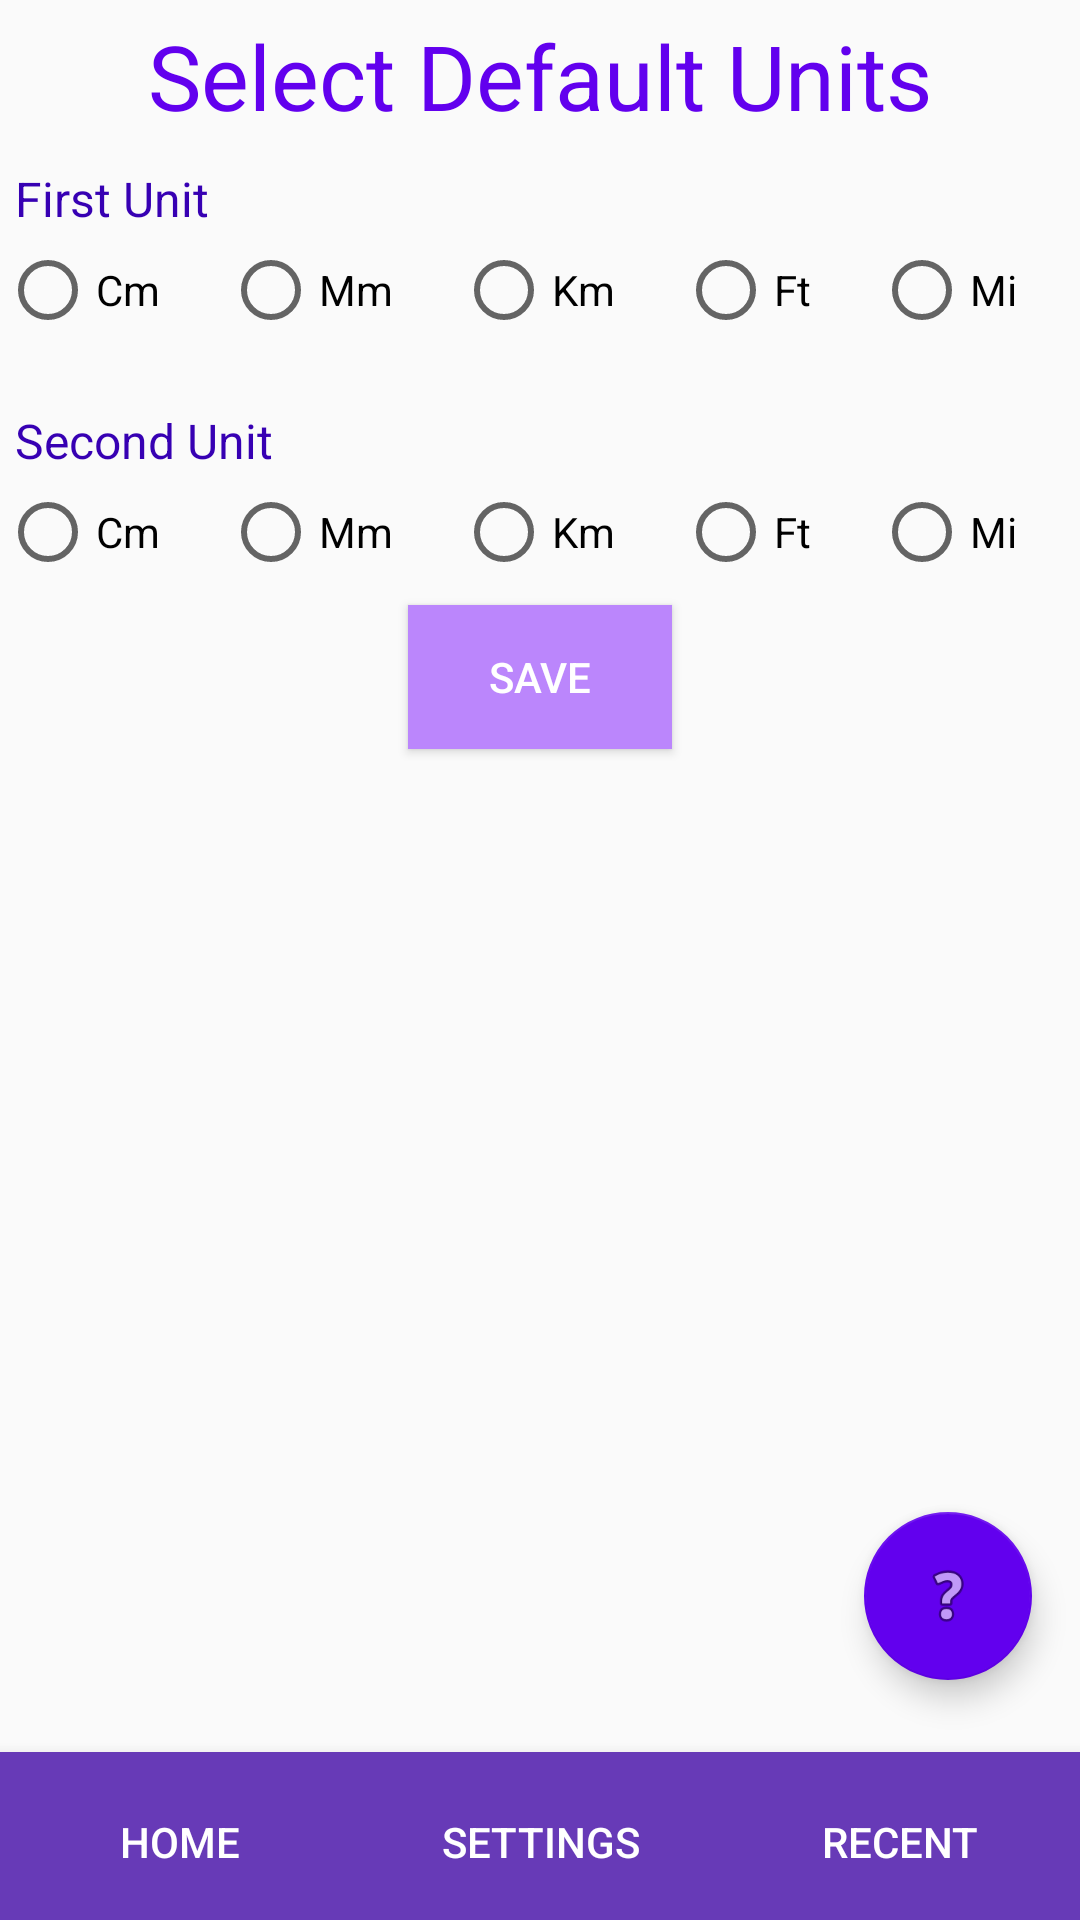

Screen size 1080*1920. Icon name, then its center in pixels as (x,y):
help: (948,1596)
